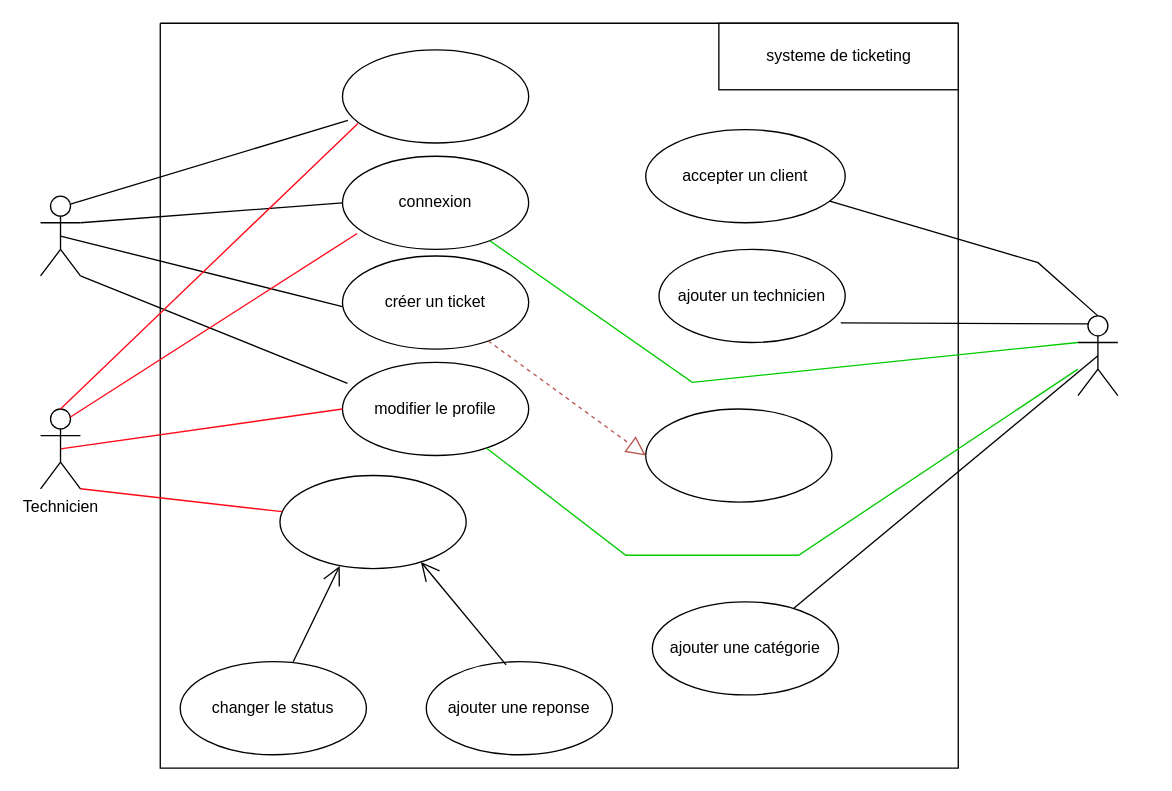
This 1172x791 diagram has some shape labels left out. Each missing label, with the centre of its shape:
"acceptation d'admin" goes at point 738,455.
"administrateur" goes at point 1097,355.
"Client" goes at point 59,235.
"créer un compte" goes at point 435,96.
"modifier un ticket" goes at point 372,521.
